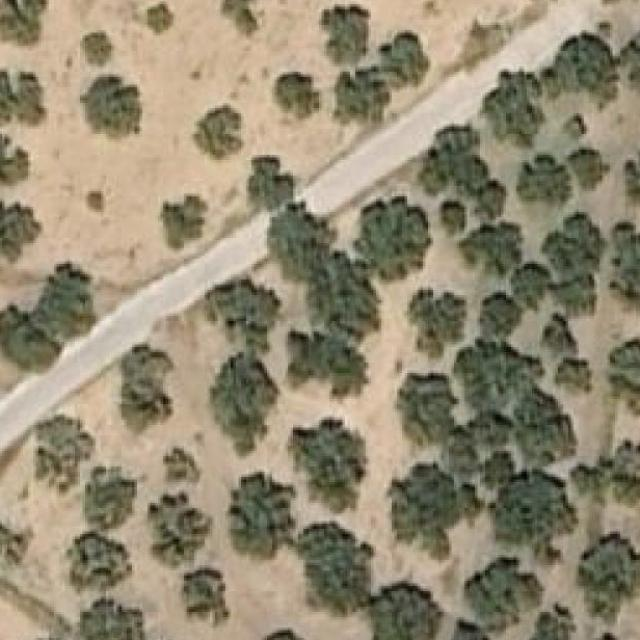Tree: (477, 454, 579, 563), (390, 464, 483, 558), (67, 467, 137, 591), (421, 127, 507, 220), (205, 350, 277, 457), (288, 420, 366, 513), (298, 521, 371, 610), (145, 492, 213, 568), (483, 70, 551, 146), (353, 199, 426, 269), (454, 345, 532, 410), (227, 477, 288, 558), (288, 334, 366, 397), (208, 281, 286, 342), (272, 205, 338, 277), (571, 440, 640, 506), (317, 261, 382, 331), (551, 30, 616, 98), (122, 345, 174, 428), (584, 537, 639, 615), (407, 290, 468, 360), (80, 75, 142, 142), (516, 389, 579, 454), (28, 422, 85, 492), (35, 264, 96, 329), (397, 371, 454, 436), (516, 153, 572, 218), (442, 414, 507, 470), (0, 308, 57, 371), (332, 66, 390, 127), (178, 565, 230, 628), (464, 217, 522, 272), (371, 589, 433, 640), (384, 25, 436, 85), (321, 4, 371, 65), (550, 214, 600, 274), (610, 220, 640, 314), (604, 339, 640, 415), (79, 598, 144, 640), (191, 106, 241, 158), (249, 155, 296, 210), (161, 196, 208, 248), (0, 202, 41, 260), (0, 70, 44, 124), (275, 72, 322, 122), (0, 0, 47, 46), (568, 148, 610, 192), (480, 293, 522, 335), (511, 267, 551, 309), (555, 279, 594, 316), (163, 446, 200, 482), (622, 139, 640, 212), (78, 33, 114, 68), (551, 356, 592, 386), (0, 132, 26, 179), (540, 314, 572, 350), (446, 619, 500, 640), (222, 0, 257, 32), (627, 16, 640, 99), (442, 201, 466, 236), (148, 2, 174, 33), (75, 189, 107, 212), (563, 114, 587, 142), (261, 629, 316, 640), (572, 635, 626, 640), (602, 0, 640, 4)
